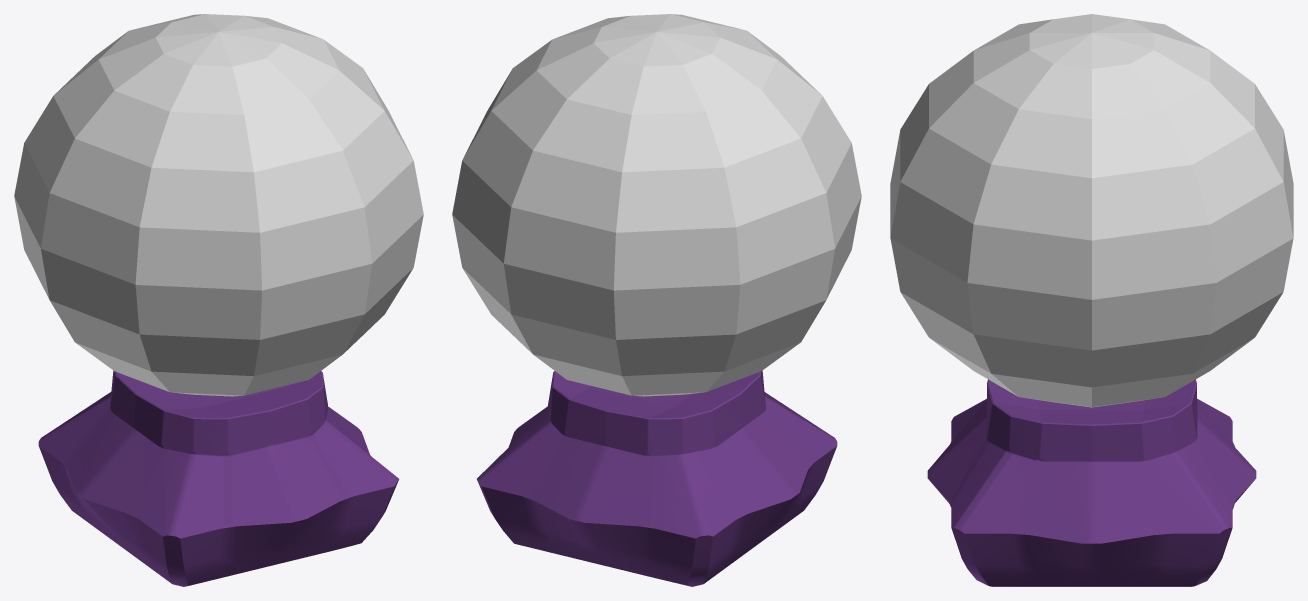
Rendered from crystalball.fbx.
3 renders of one model, left to right at view 1: azimuth 30°, elevation 25°; view 2: azimuth 150°, elevation 25°; view 3: azimuth 270°, elevation 25°, orthographic. The views are drawn at different scales.
Visible parts, largest first — view 1: pSphere1, pCube1; view 2: pSphere1, pCube1; view 3: pSphere1, pCube1.
Part boxes in pixels (x1,y1,x2,y2): pSphere1: (14,14,423,396); pCube1: (38,370,398,586); pSphere1: (452,14,861,396); pCube1: (477,370,837,586); pSphere1: (890,14,1293,407); pCube1: (927,379,1256,586).
Bounding box in the file's own units: 40.86 × 54.7 × 39.01.
